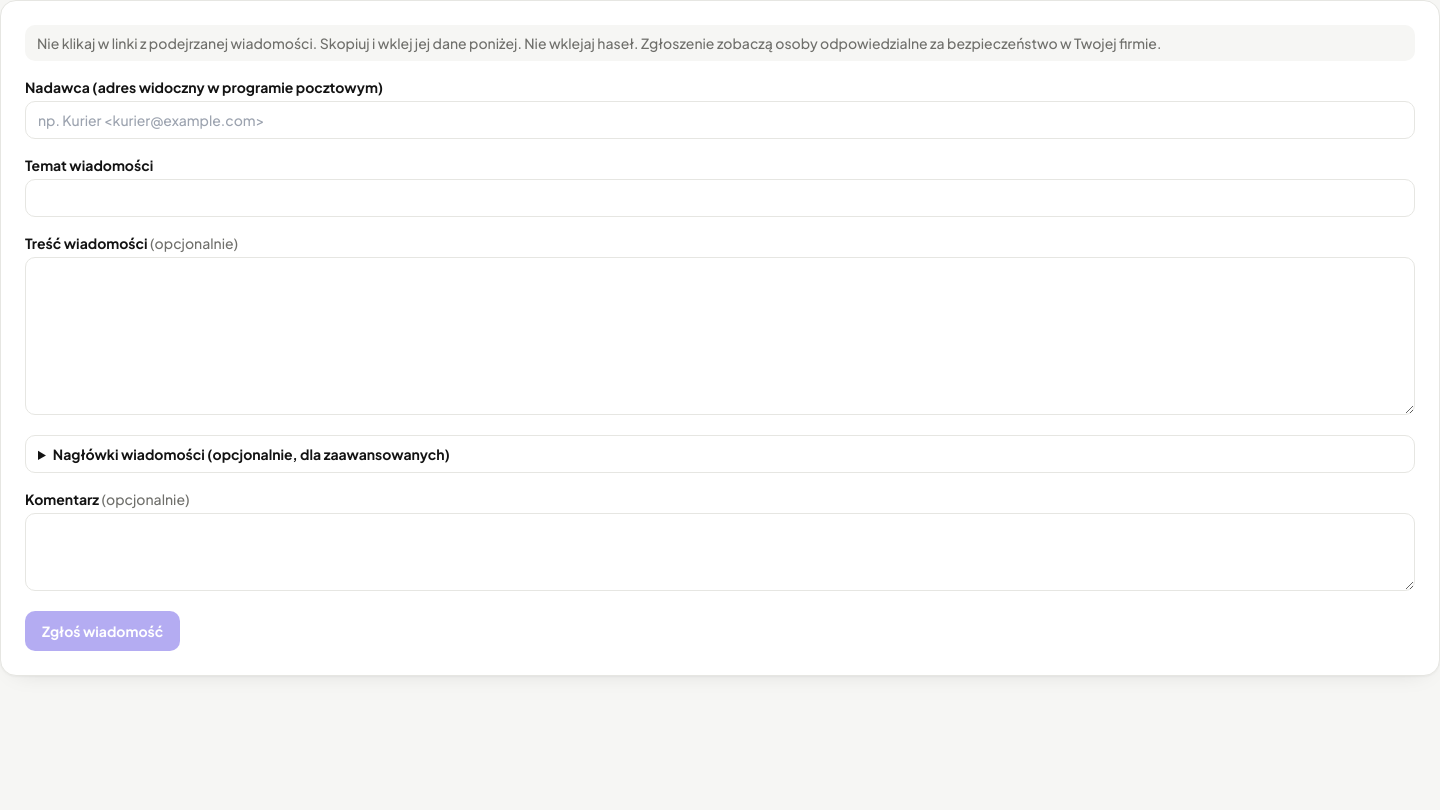
Test: ReportForm › wysyła pola na /api/threat-reports i dla zgłoszenia prawdziwego pokazuje podziękowanie (bez pochwały za symulację)
In the field labelled "Nadawca (adres widoczny w programie pocztowym)": (720, 120) left=25, top=101, right=1415, bottom=139, type "Obcy <obcy@example.test>"
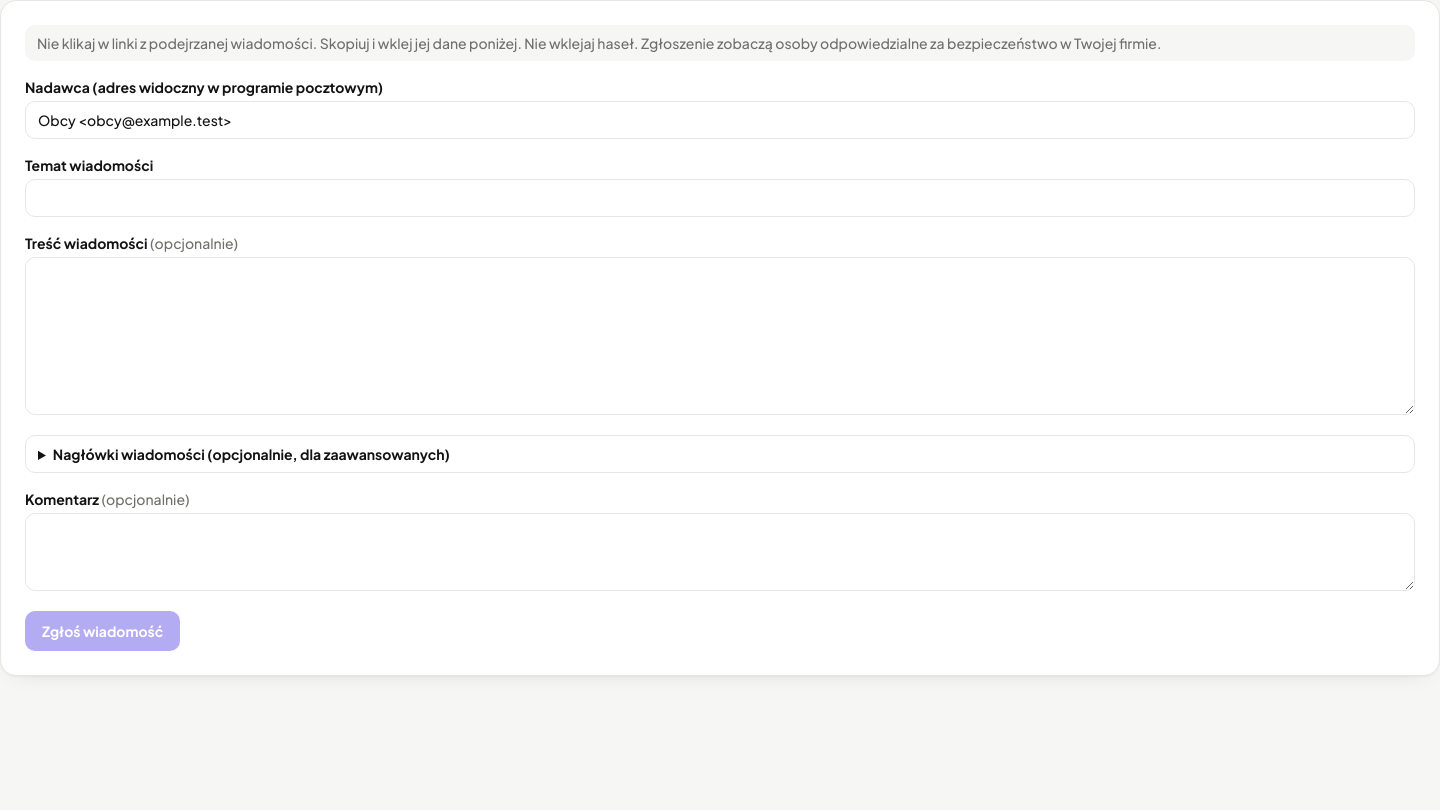
In the field labelled "Temat wiadomości": (720, 198) left=25, top=179, right=1415, bottom=217, type "Faktura"
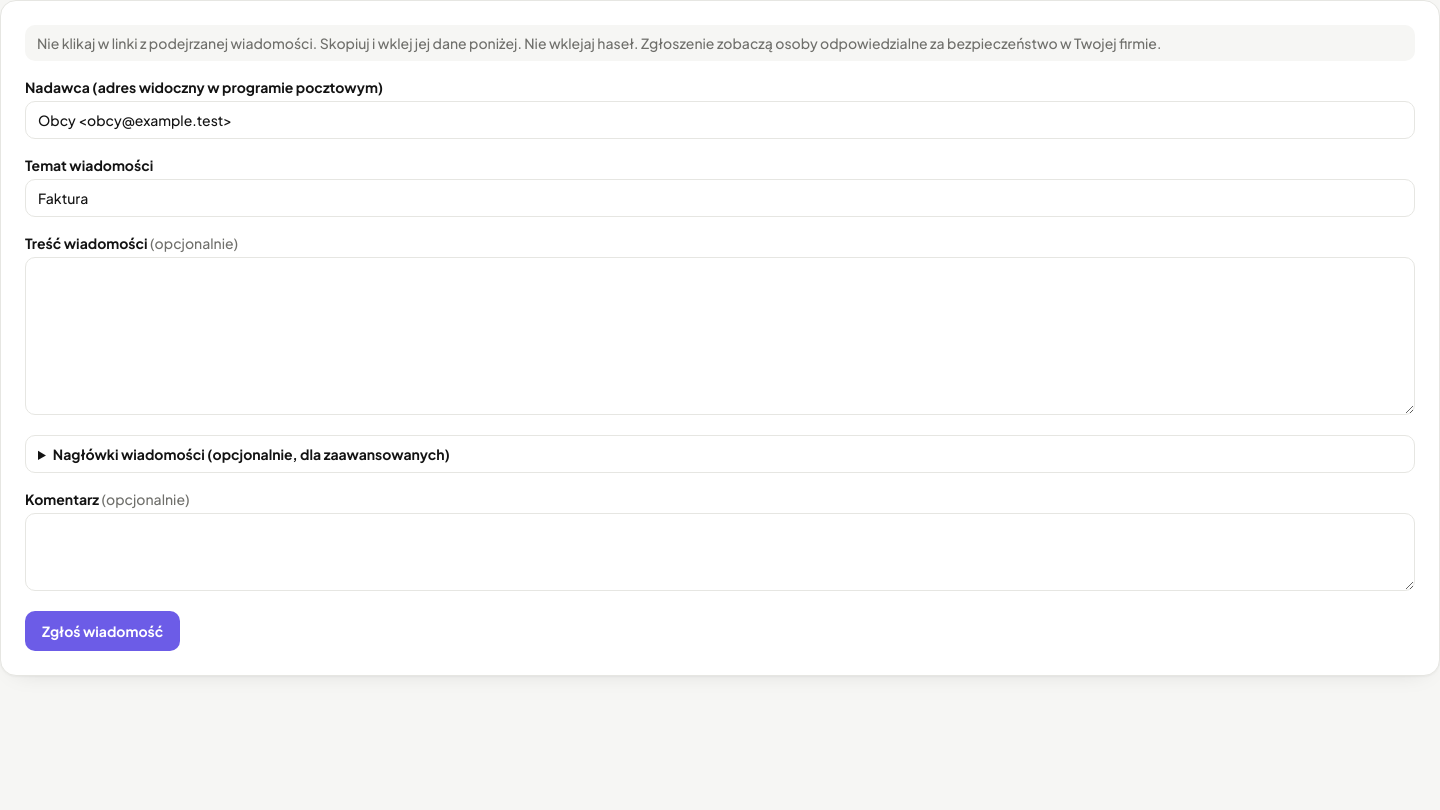
In the text box labelled "Treść wiadomości (opcjonalnie)": (720, 336) left=25, top=257, right=1415, bottom=415, type "Kliknij tutaj"
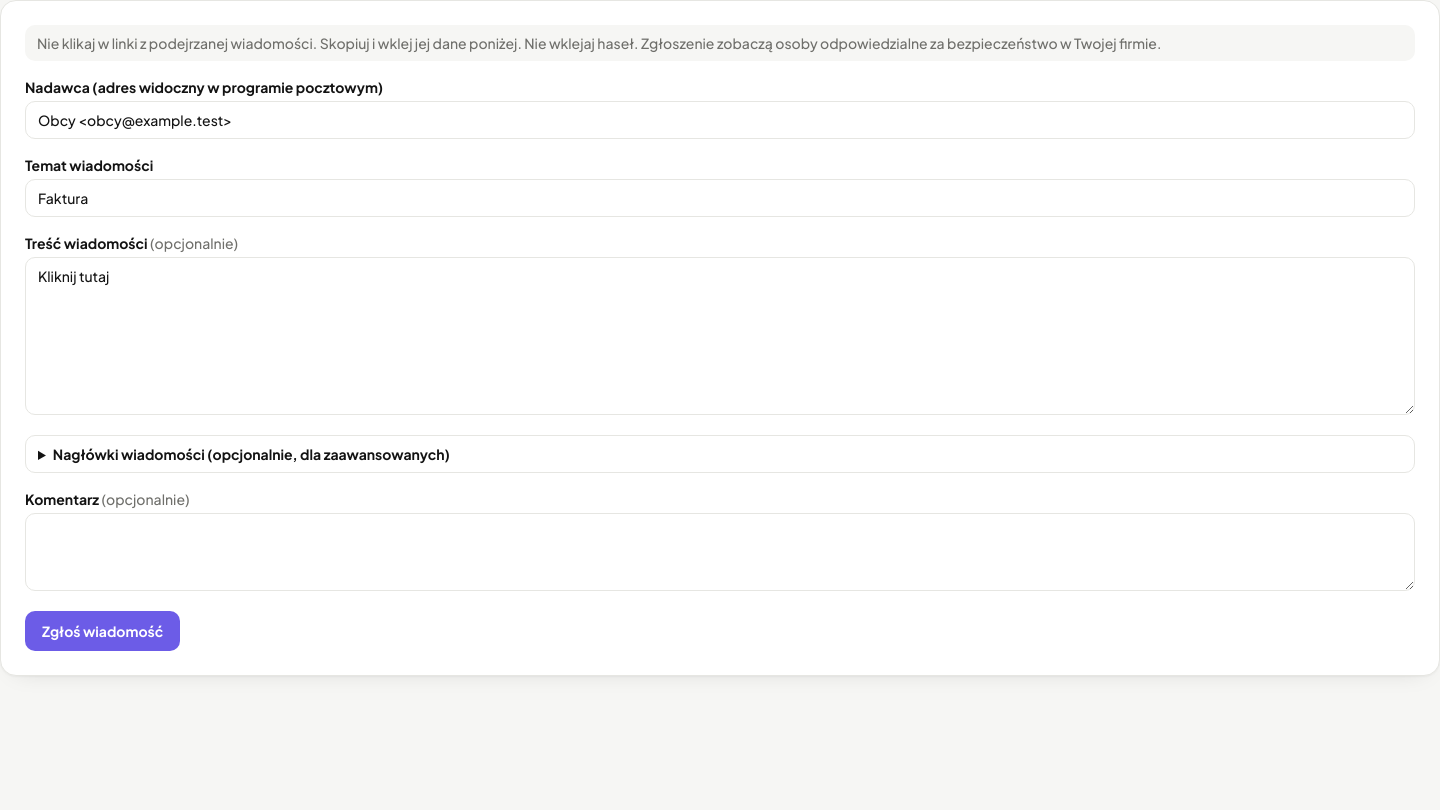
Click the button "Zgłoś wiadomość": (103, 631) left=25, top=611, right=180, bottom=651
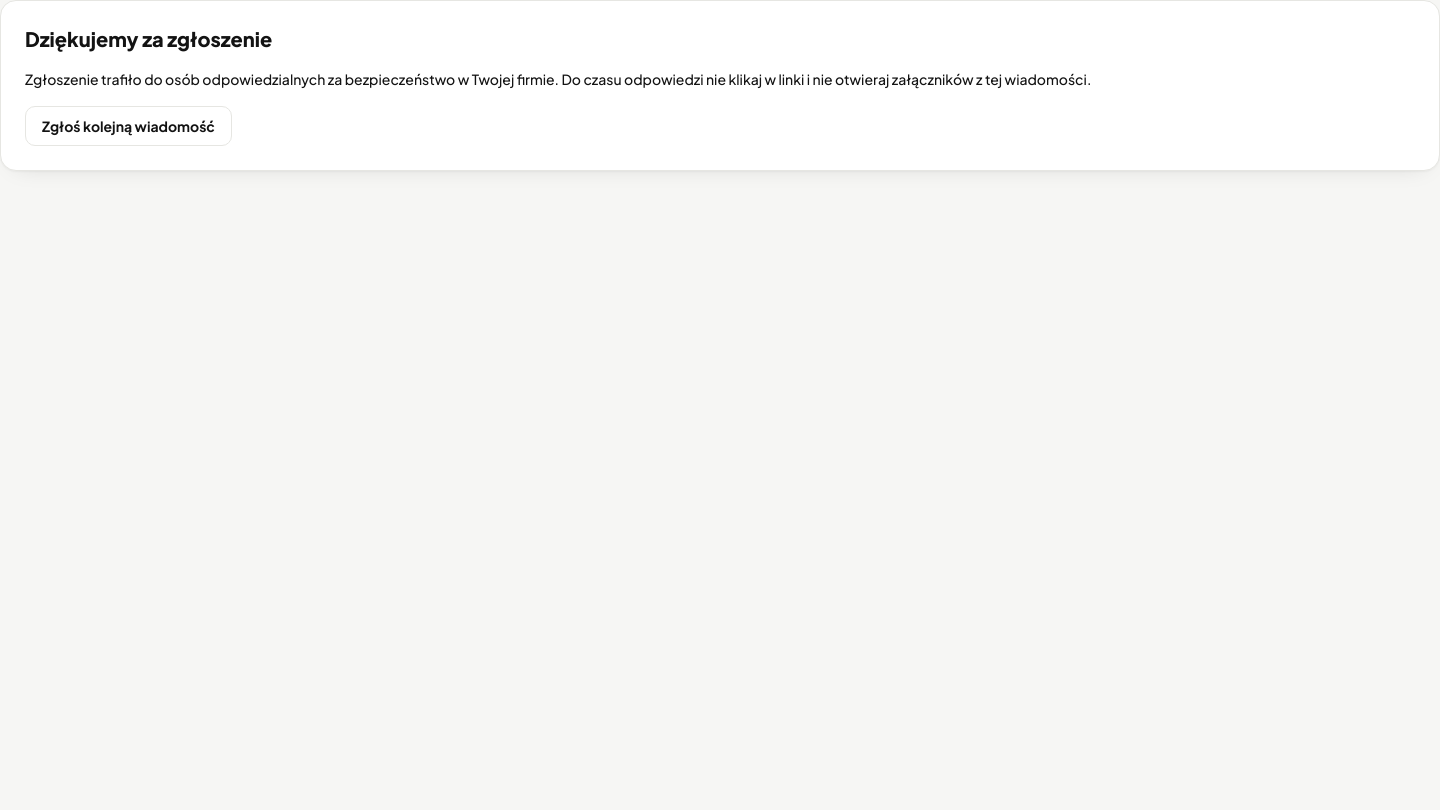
Expected: the message shows "Dziękujemy za zgłoszenie", left=25, top=26, right=272, bottom=51
